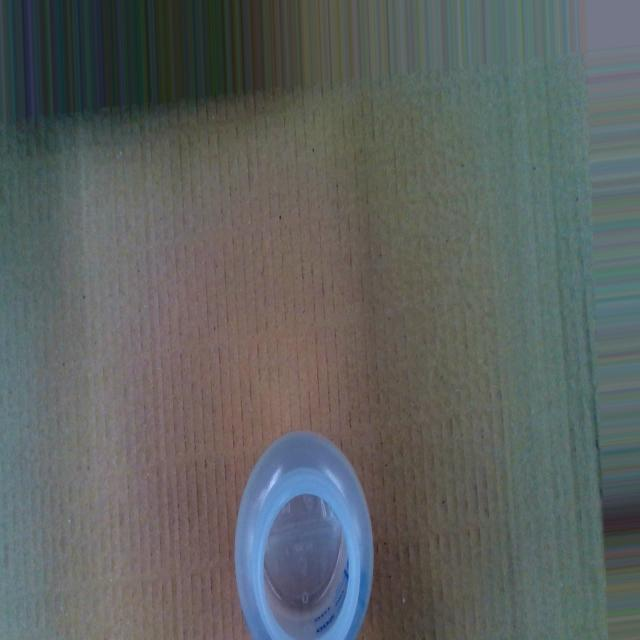bottle: (234, 430, 376, 640)
